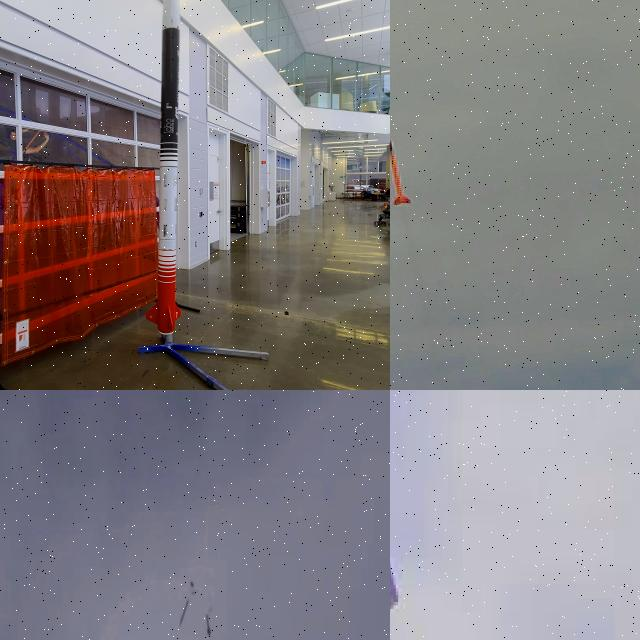Rocket: (145, 0, 181, 333), (390, 137, 412, 206), (206, 615, 211, 635)
